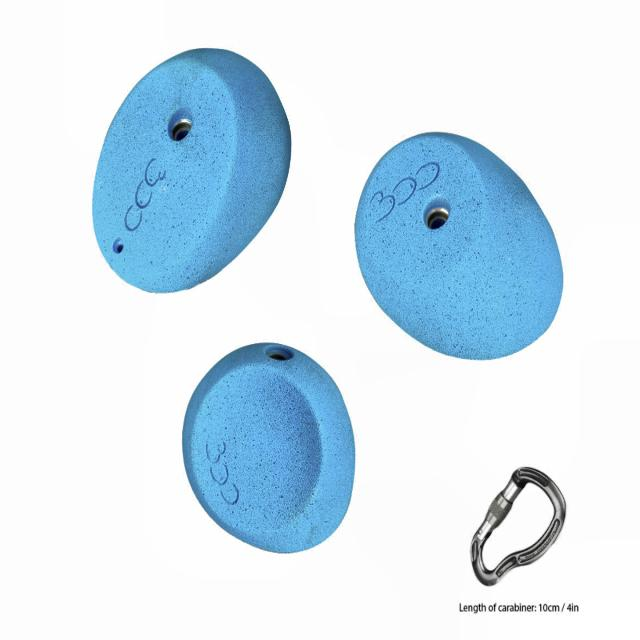Hold: (355, 128, 565, 364), (93, 48, 294, 294), (180, 347, 360, 554)
